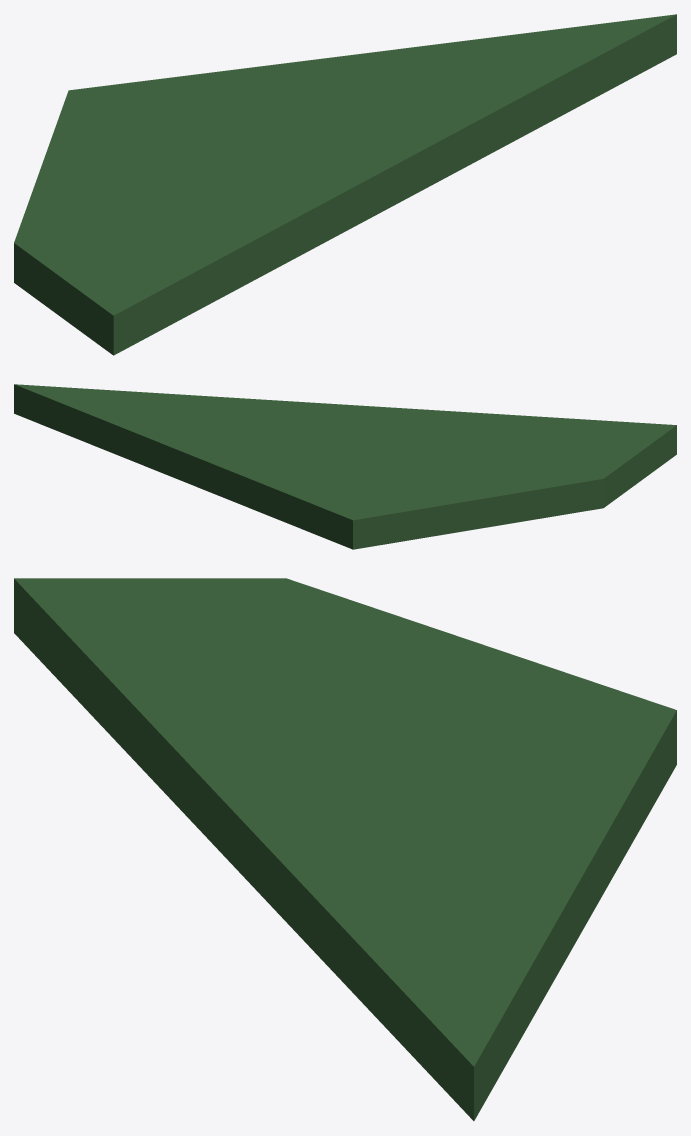
File: x_proval_00_109_1_rmstrd.fbx
3 renders of one model, top to bottom at view 1: azimuth 30°, elevation 25°; view 2: azimuth 150°, elevation 25°; view 3: azimuth 270°, elevation 25°, orthographic. The views are drawn at different scales.
Visible parts, largest first — view 1: x_proval_00_109_1_rmstrd1; view 2: x_proval_00_109_1_rmstrd1; view 3: x_proval_00_109_1_rmstrd1.
Boxes of the visible parts, x1=… form: x_proval_00_109_1_rmstrd1: x1=14, y1=14, x2=676, y2=355; x_proval_00_109_1_rmstrd1: x1=14, y1=384, x2=676, y2=549; x_proval_00_109_1_rmstrd1: x1=14, y1=578, x2=676, y2=1120.
Bounding box in the file's own units: 3.84 × 0.2 × 2.2.
